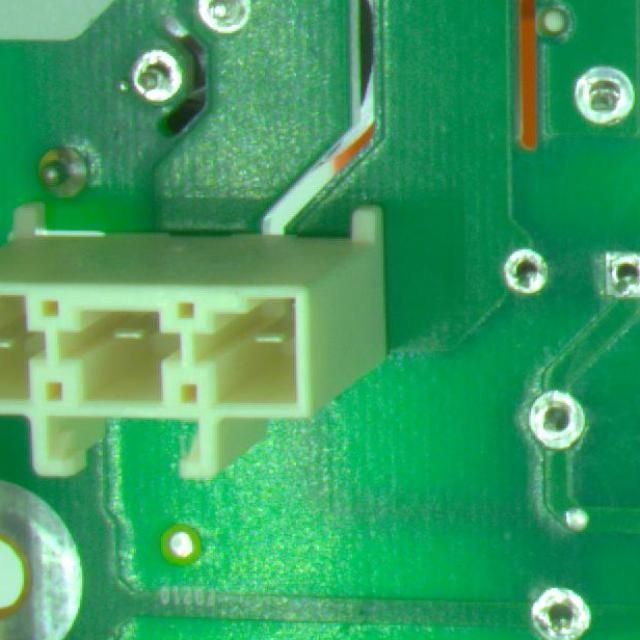Insufficient solder: (556, 58, 635, 130), (518, 388, 594, 453), (122, 41, 186, 112), (520, 584, 596, 640), (594, 228, 640, 304), (501, 246, 559, 304), (194, 0, 254, 32)
